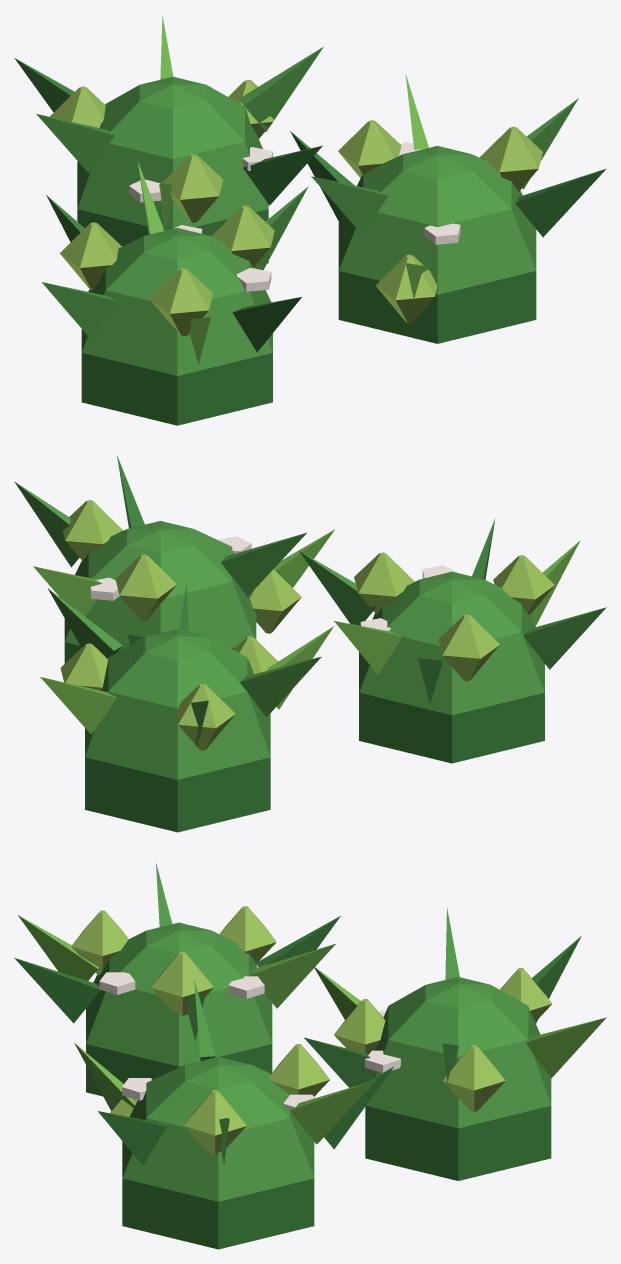
File: bushberries-3.glb
The picture shows the model from 3 angles, top to bottom: view 1: azimuth 30°, elevation 25°; view 2: azimuth 150°, elevation 25°; view 3: azimuth 270°, elevation 25°; orthographic projection. The views are drawn at different scales.
Visible parts, largest first — view 1: bushberries-3; view 2: bushberries-3; view 3: bushberries-3.
Boxes of the visible parts, bbox=[...] form: bushberries-3: bbox=[14, 15, 606, 425]; bushberries-3: bbox=[14, 455, 606, 832]; bushberries-3: bbox=[14, 863, 606, 1249].
Size of the model in its own units: 0.8533 by 0.2347 by 0.7842.
1 material, 1 textured.
